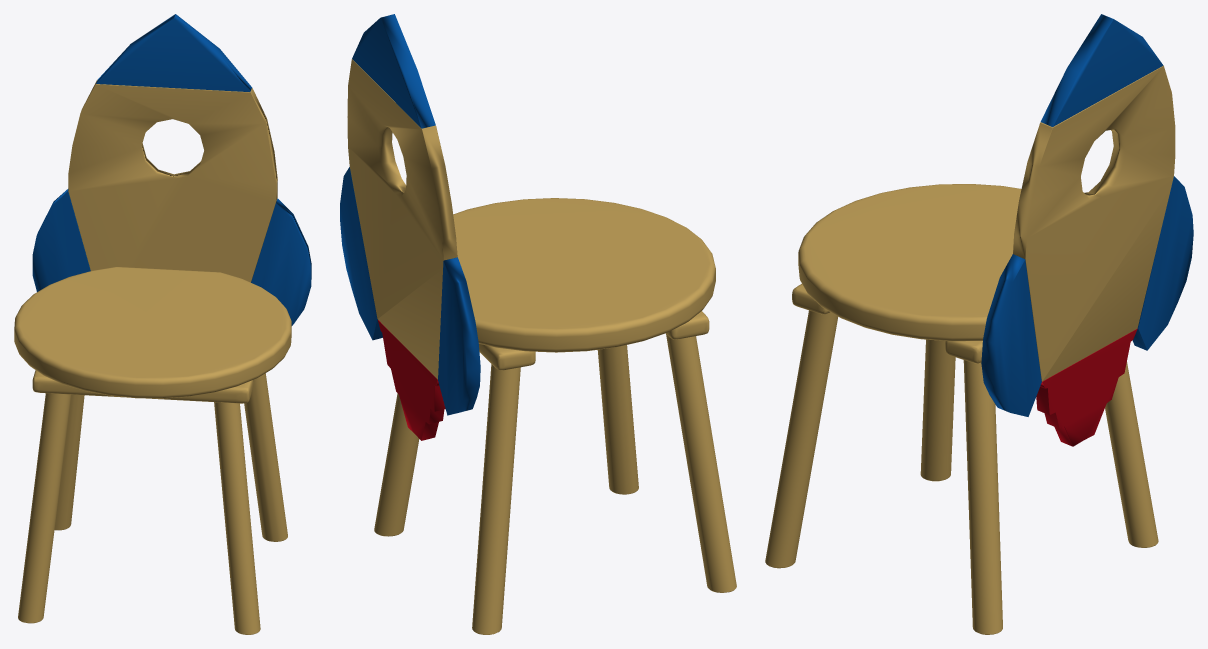
The model's file is sediarazzo_LOD2.fbx.
3 renders of one model, left to right at view 1: azimuth 30°, elevation 25°; view 2: azimuth 150°, elevation 25°; view 3: azimuth 270°, elevation 25°, orthographic. The views are drawn at different scales.
Parts seen in each view (by area): view 1: sediarazzo; view 2: sediarazzo; view 3: sediarazzo.
Boxes of the visible parts, box(x1,y1,x2,y2) form: sediarazzo: box(14, 14, 311, 634); sediarazzo: box(340, 14, 736, 634); sediarazzo: box(765, 14, 1193, 634).
Bounding box in the file's own units: 165 × 246 × 164.
